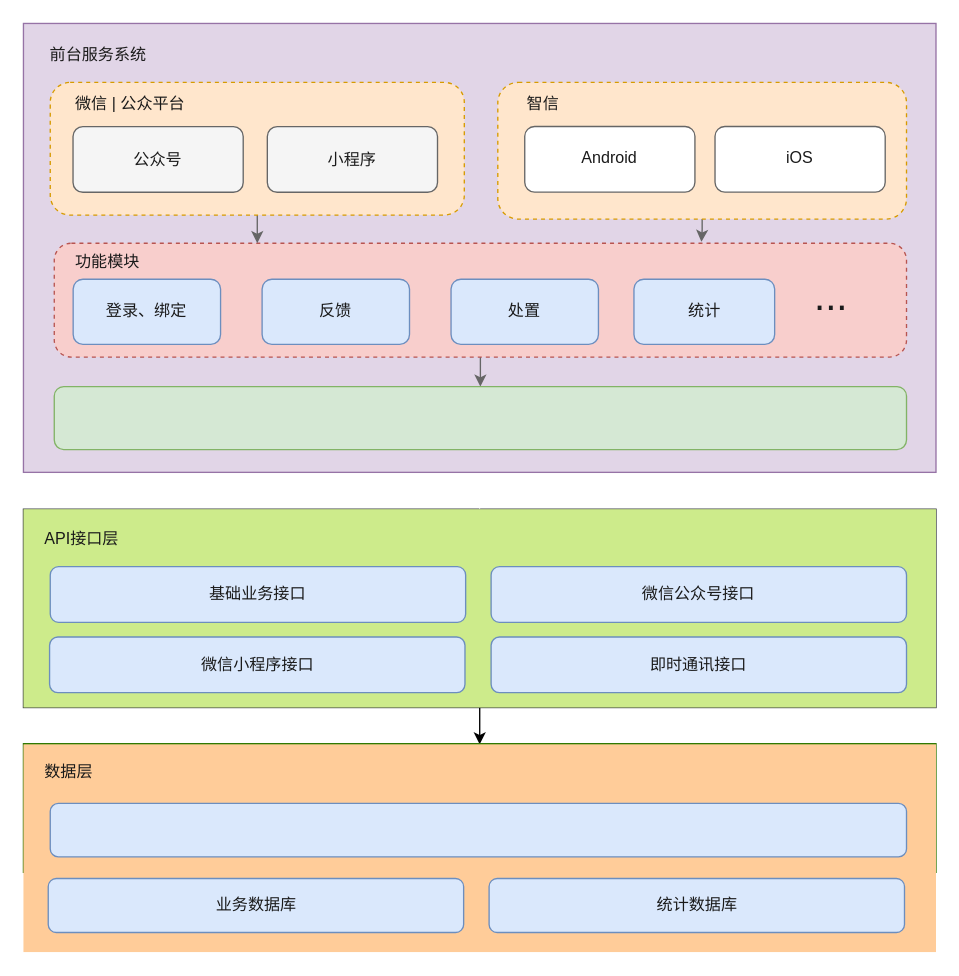
This 959x976 diagram has some shape labels left out. Here are the shapes that lost their labels. From the top down, the centre of each, then its label:
At pixel 480 417: "H5跨平台页面".
At pixel 478 829: "Redis缓存".
